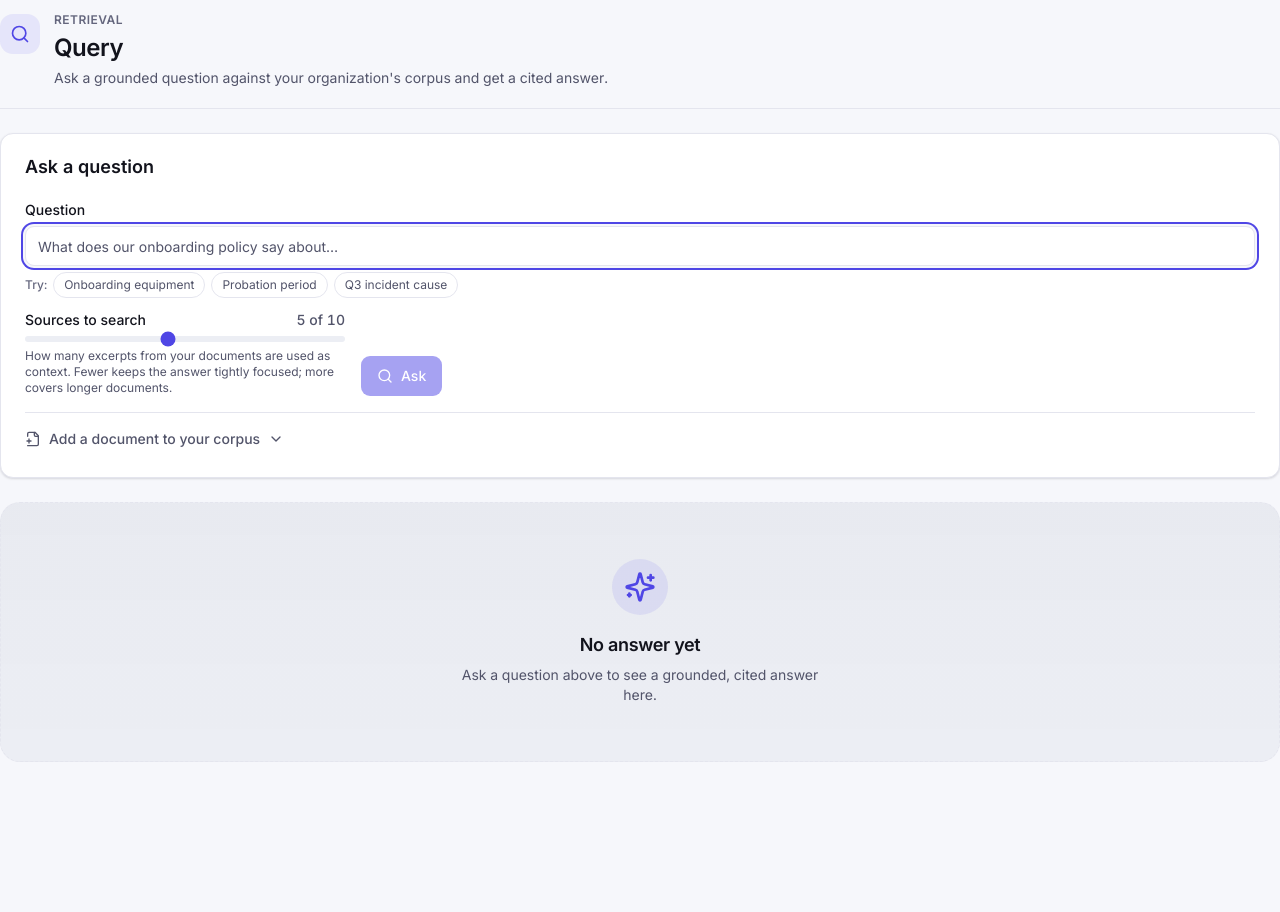
Cross-cutting error handling (Task 26.1) › renders a generic 500 message with no stack trace (5.5)
The width and height of the screenshot is (1280, 912).
Type "what is the policy" into the field with test id "query-input". click: x=640, y=246
box: 25,226 -> 1255,266
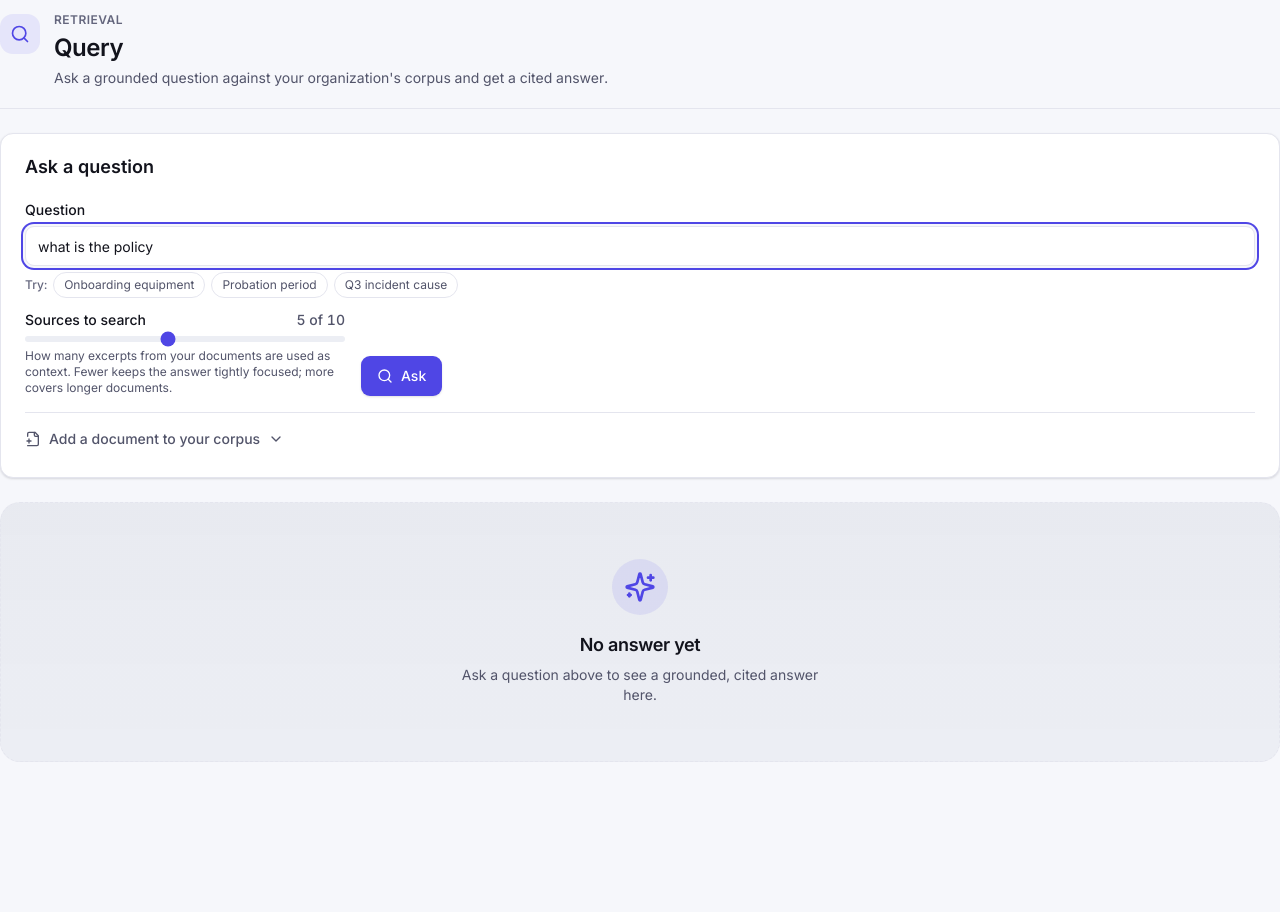
Click the button with test id "query-submit". click: x=402, y=376
box: 361,356 -> 442,396
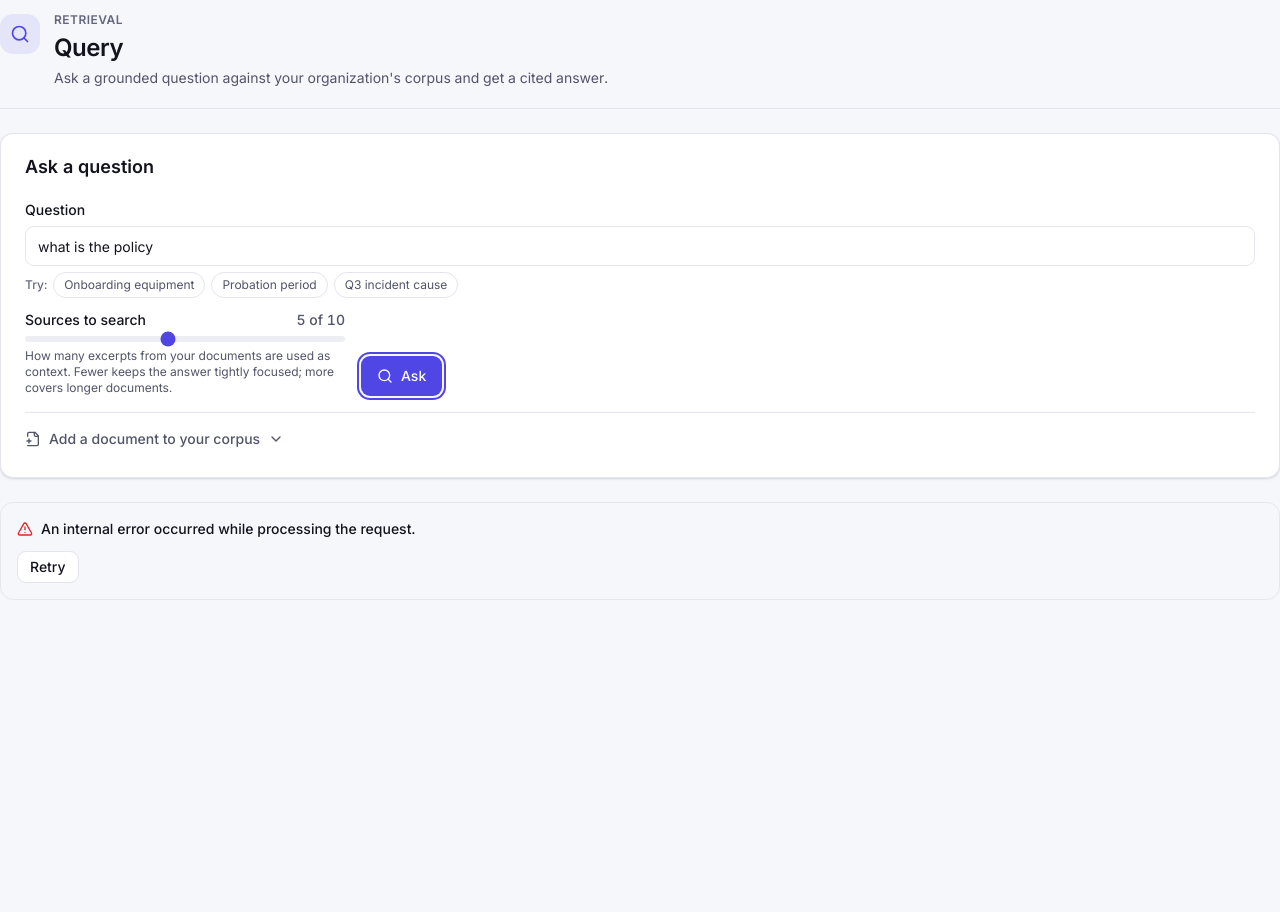
Expected: the element with test id "query-error" is shown, 0,502 -> 1279,600
Expected: the message with test id "error-banner" shows "An internal error occurred", 41,520 -> 415,537
